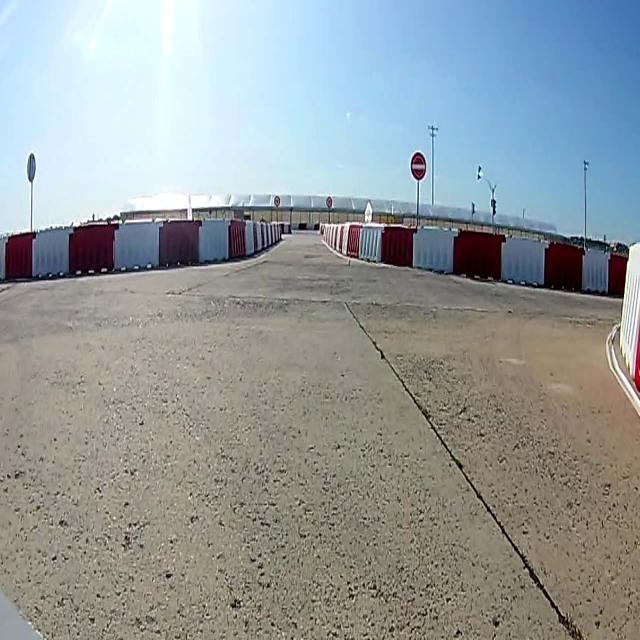girisyok: (410, 151, 427, 181)
